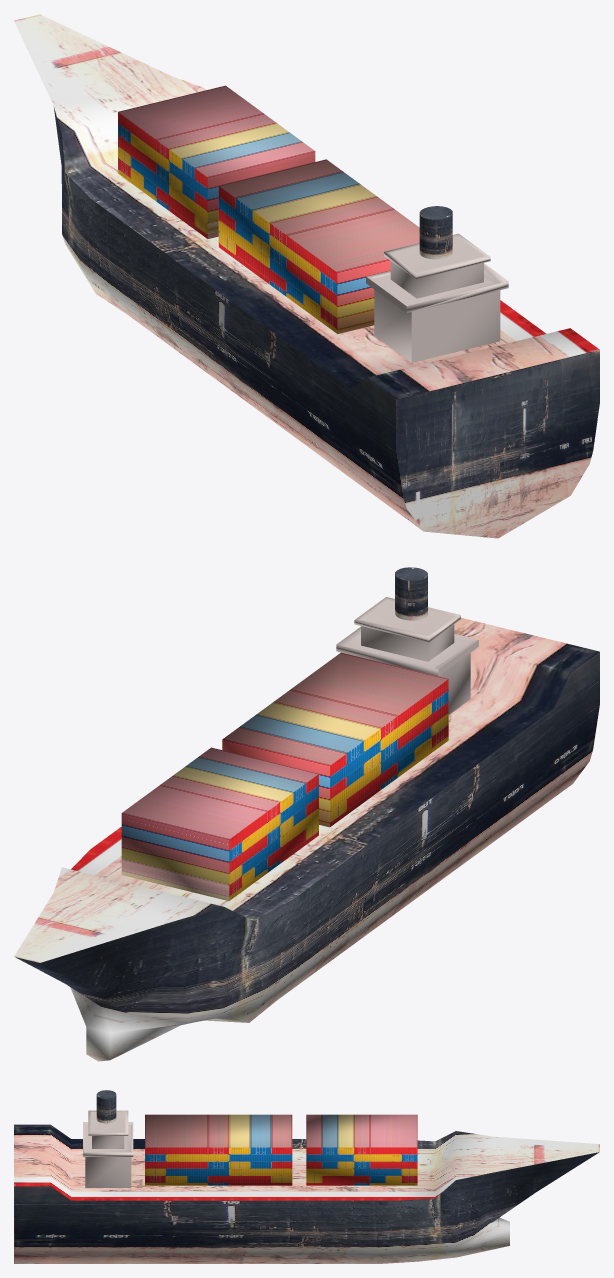
The model's file is Ship.fbx.
The picture shows the model from 3 angles, top to bottom: view 1: azimuth 30°, elevation 25°; view 2: azimuth 150°, elevation 25°; view 3: azimuth 270°, elevation 25°; orthographic projection. The views are drawn at different scales.
Parts seen in each view (by area): view 1: polySurface38; view 2: polySurface38; view 3: polySurface38.
Boxes of the visible parts, bbox=[...] form: polySurface38: bbox=[14, 14, 599, 538]; polySurface38: bbox=[14, 567, 599, 1061]; polySurface38: bbox=[14, 1090, 599, 1263].
Size of the model in its own units: 7654 by 9647 by 30734.
Materials: 1 (1 with a texture image).
